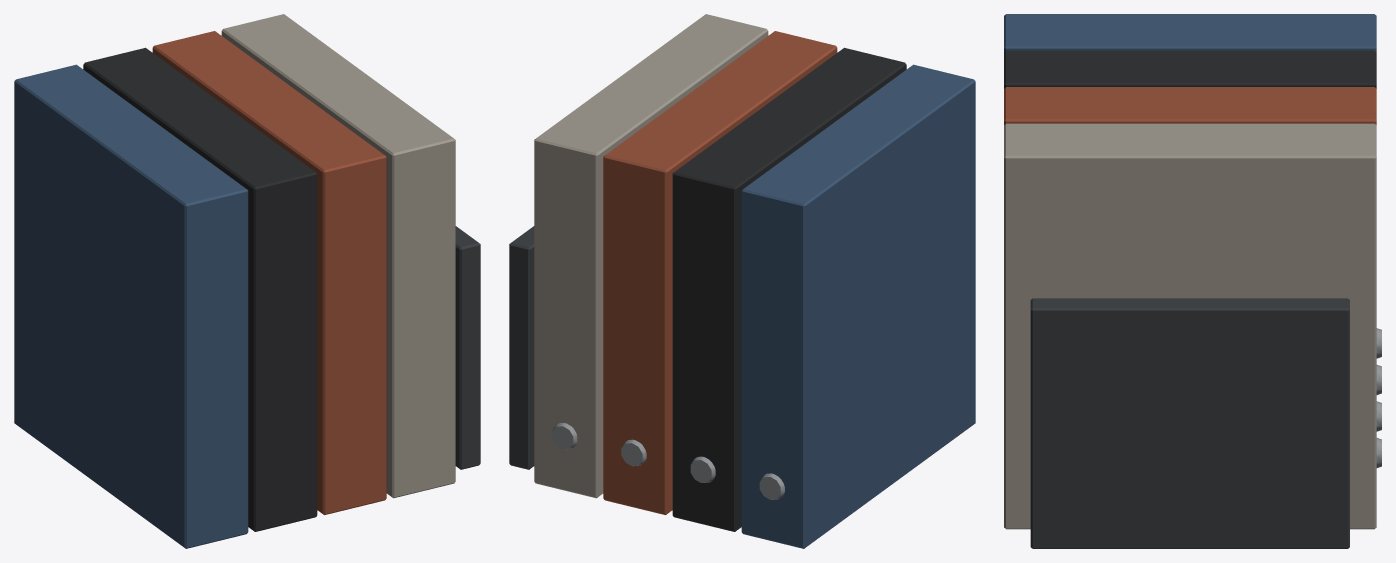
Rendered from prop_binders.glb.
3 views of the same model, side by side, from view 1: azimuth 30°, elevation 25°; view 2: azimuth 150°, elevation 25°; view 3: azimuth 270°, elevation 25° (orthographic). The views are drawn at different scales.
Parts seen in each view (by area): view 1: Binders; view 2: Binders; view 3: Binders.
Part boxes in pixels (<box>): Binders: <box>14,14,480,548</box>; Binders: <box>509,14,975,548</box>; Binders: <box>1004,14,1381,548</box>.
Bounding box in the file's own units: 0.29 × 0.31 × 0.284.
